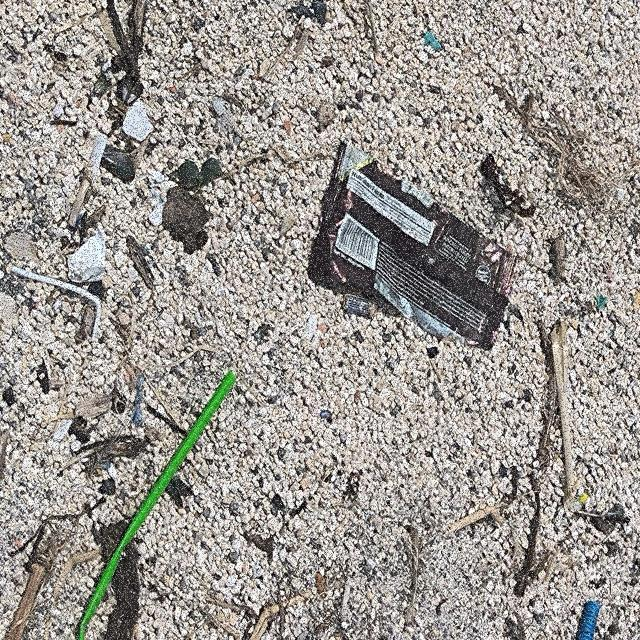plastic_waste: (307, 141, 519, 354), (79, 368, 239, 640)
